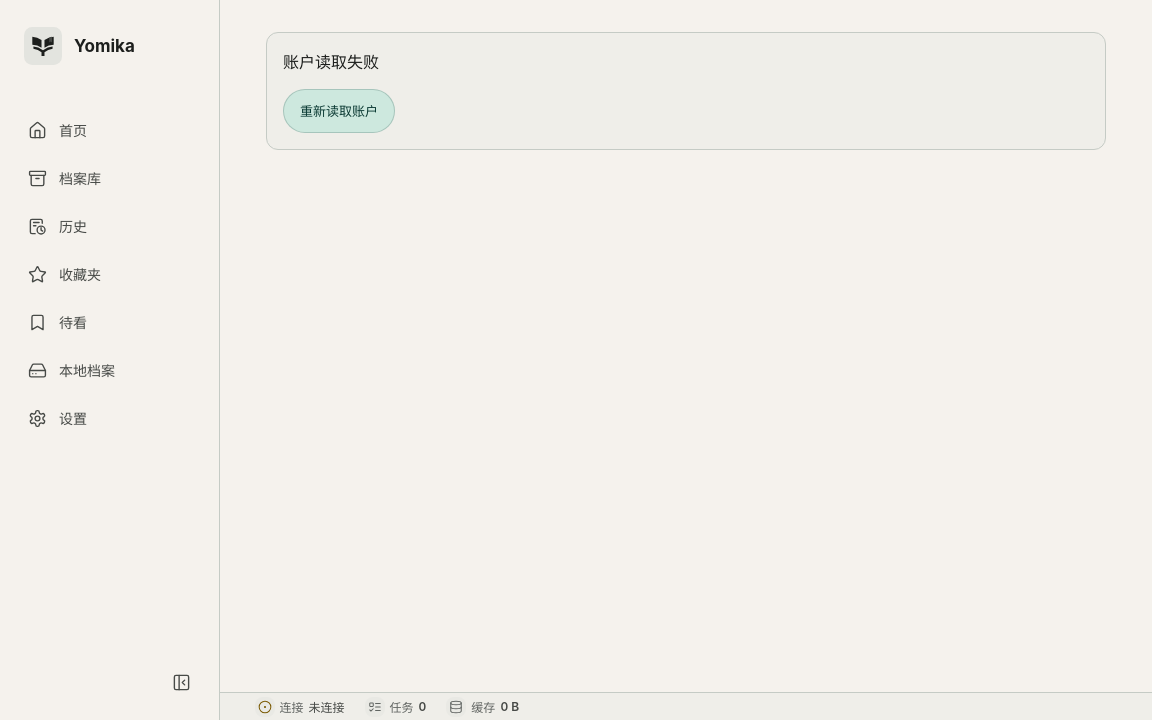
Test case: EH route workspace › shows an account read failure with retry instead of an empty login form
Check: the message "账户读取失败" is shown, box top-left (283, 52), bottom-right (379, 72)
Click the button "重新读取账户": (339, 111) top-left (283, 89), bottom-right (395, 133)
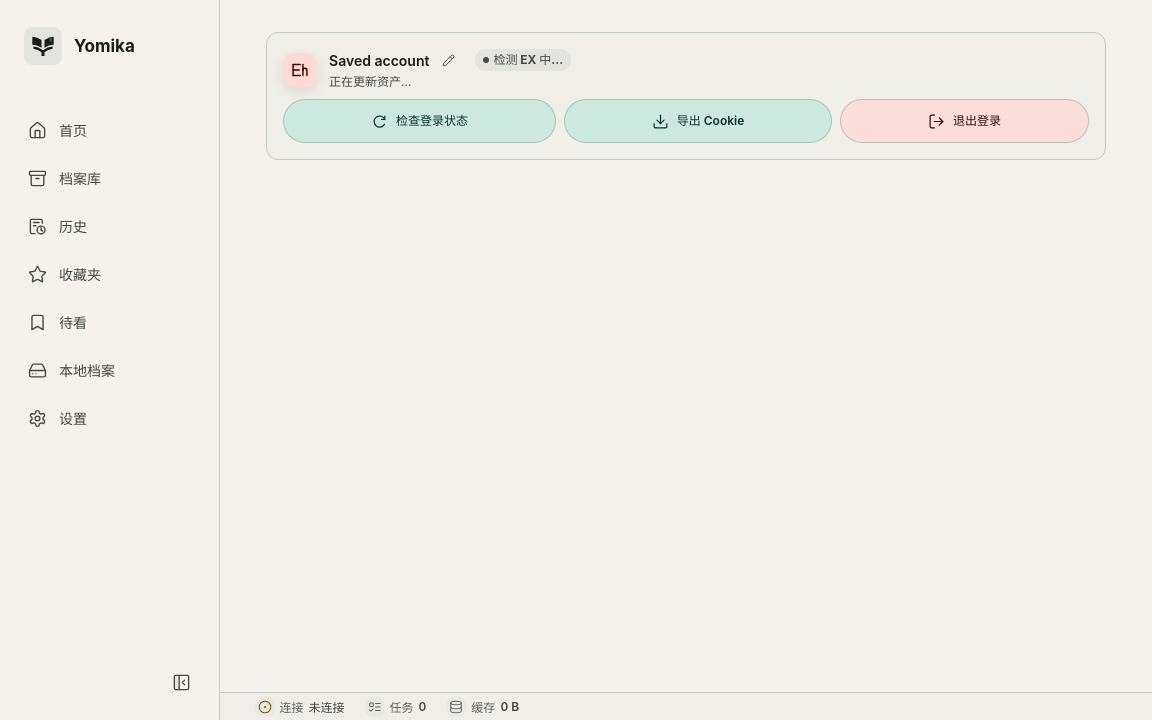
Check: the text "Saved account" is shown, box top-left (329, 52), bottom-right (430, 68)
